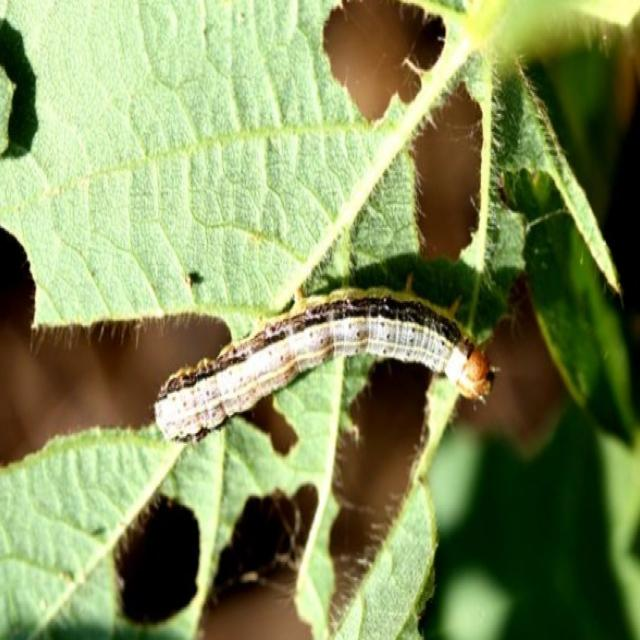Armyworm: (143, 286, 497, 499)
Armyworm_damage: (304, 1, 461, 175), (110, 484, 206, 637), (1, 184, 57, 346), (1, 3, 50, 174)
